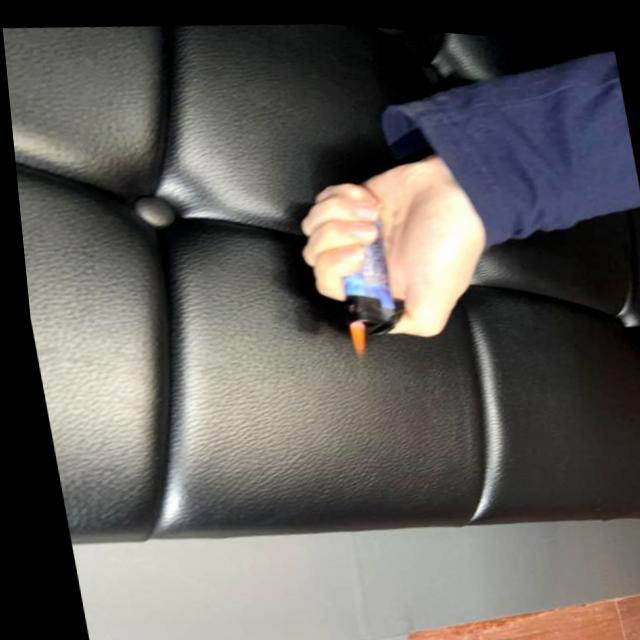Fire: (341, 314, 364, 354)
